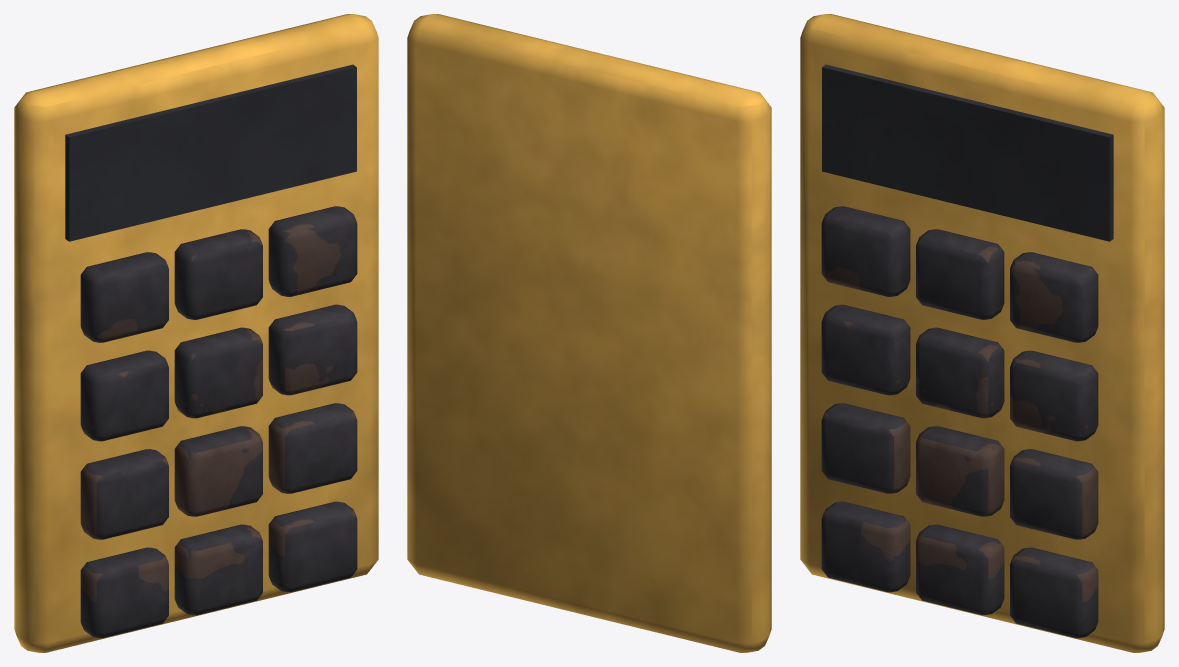
File: dun_keypad.glb
3 views of the same model, side by side, from view 1: azimuth 30°, elevation 25°; view 2: azimuth 150°, elevation 25°; view 3: azimuth 330°, elevation 25° (orthographic).
Visible parts, largest first — view 1: dun_keypad_gold_0, dun_keypad_iron_0, dun_keypad_slate_0; view 2: dun_keypad_gold_0; view 3: dun_keypad_gold_0, dun_keypad_iron_0, dun_keypad_slate_0.
Boxes of the visible parts, <box> form: dun_keypad_gold_0: <box>14,14,378,652</box>; dun_keypad_iron_0: <box>80,206,357,638</box>; dun_keypad_slate_0: <box>65,64,356,241</box>; dun_keypad_gold_0: <box>407,14,771,652</box>; dun_keypad_gold_0: <box>800,14,1164,652</box>; dun_keypad_iron_0: <box>821,206,1098,638</box>; dun_keypad_slate_0: <box>822,64,1113,241</box>.
Bounding box in the file's own units: 0.32 × 0.48 × 0.07.
Materials: 3 (3 with a texture image).
